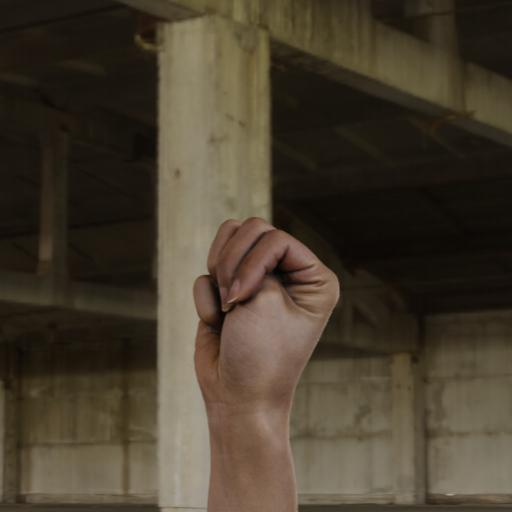M: (192, 211, 344, 412)
